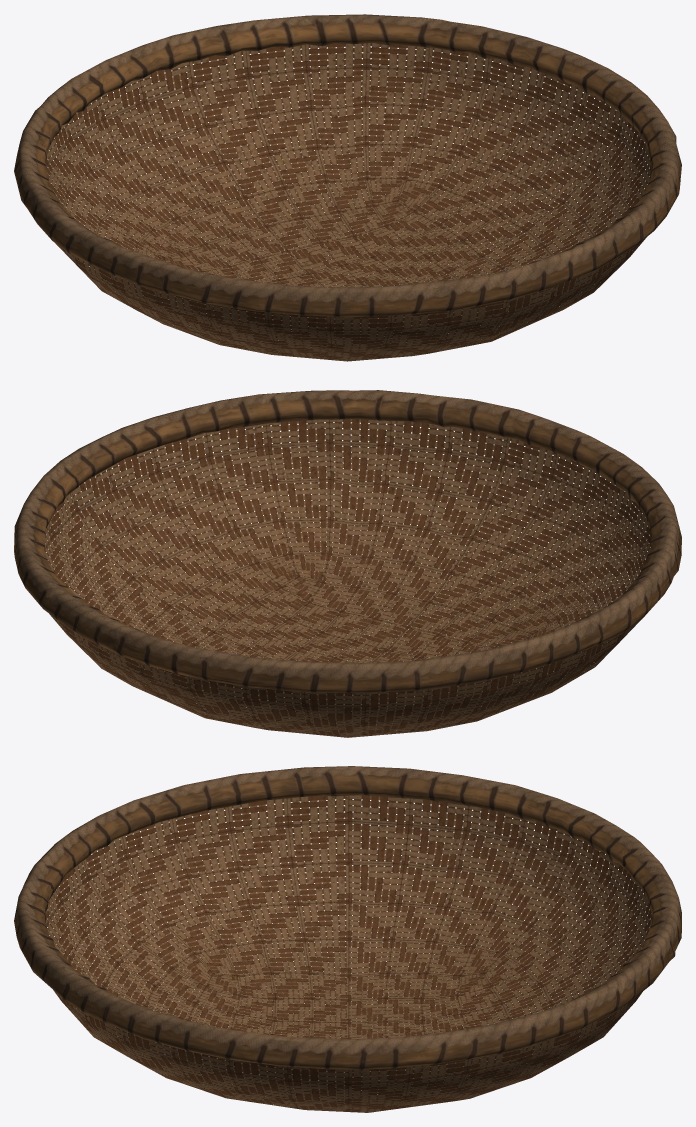
Rendered from SM_Balay.glb.
3 views of the same model, one above another, from view 1: azimuth 30°, elevation 25°; view 2: azimuth 150°, elevation 25°; view 3: azimuth 270°, elevation 25° (orthographic).
Parts seen in each view (by area): view 1: SM_Balay; view 2: SM_Balay; view 3: SM_Balay.
Part boxes in pixels (<box>): SM_Balay: <box>14,14,681,361</box>; SM_Balay: <box>14,390,681,737</box>; SM_Balay: <box>14,766,681,1112</box>.
Bounding box in the file's own units: 0.4952 × 0.1283 × 0.4943.
1 material, 1 textured.
